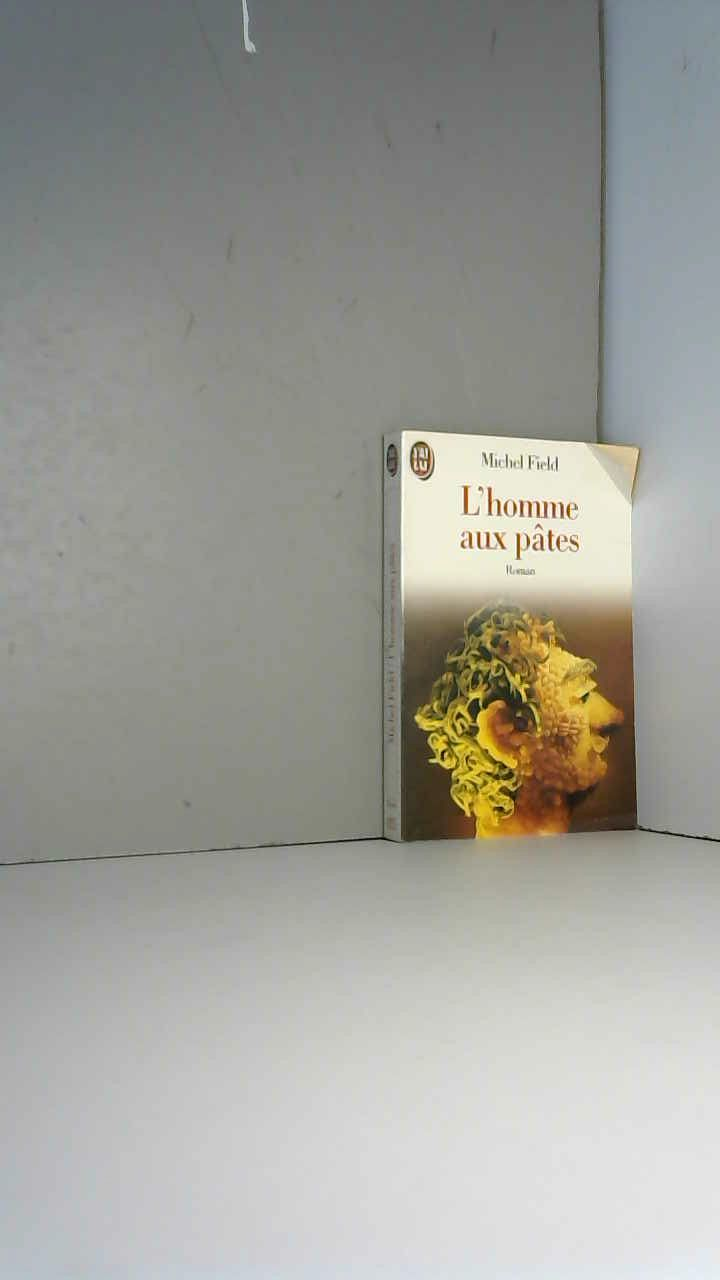book: (368, 415, 662, 861)
